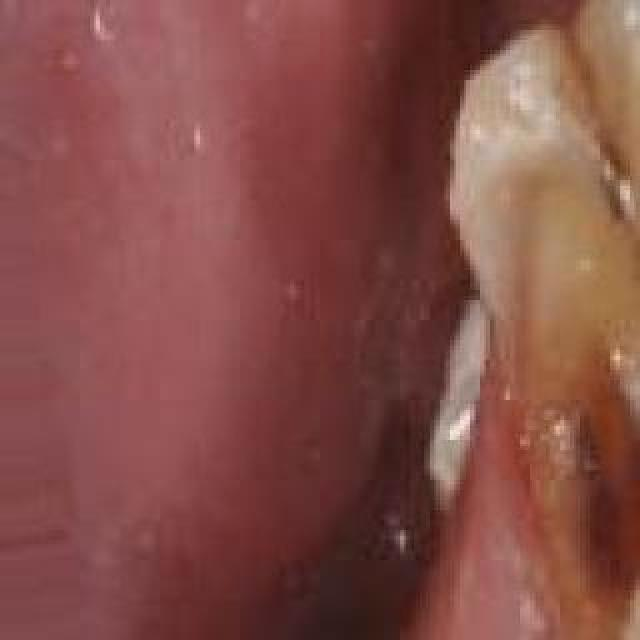cavities: (424, 76, 640, 640)
